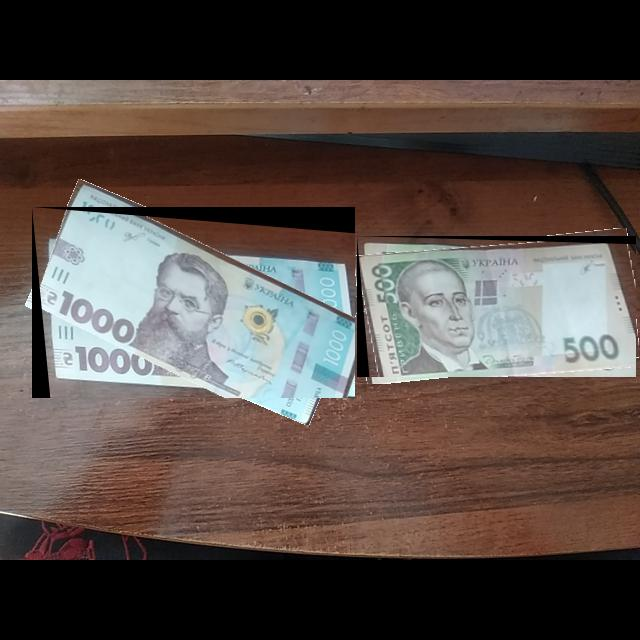1000uah: (32, 207, 356, 399)
500uah: (357, 236, 637, 378)
